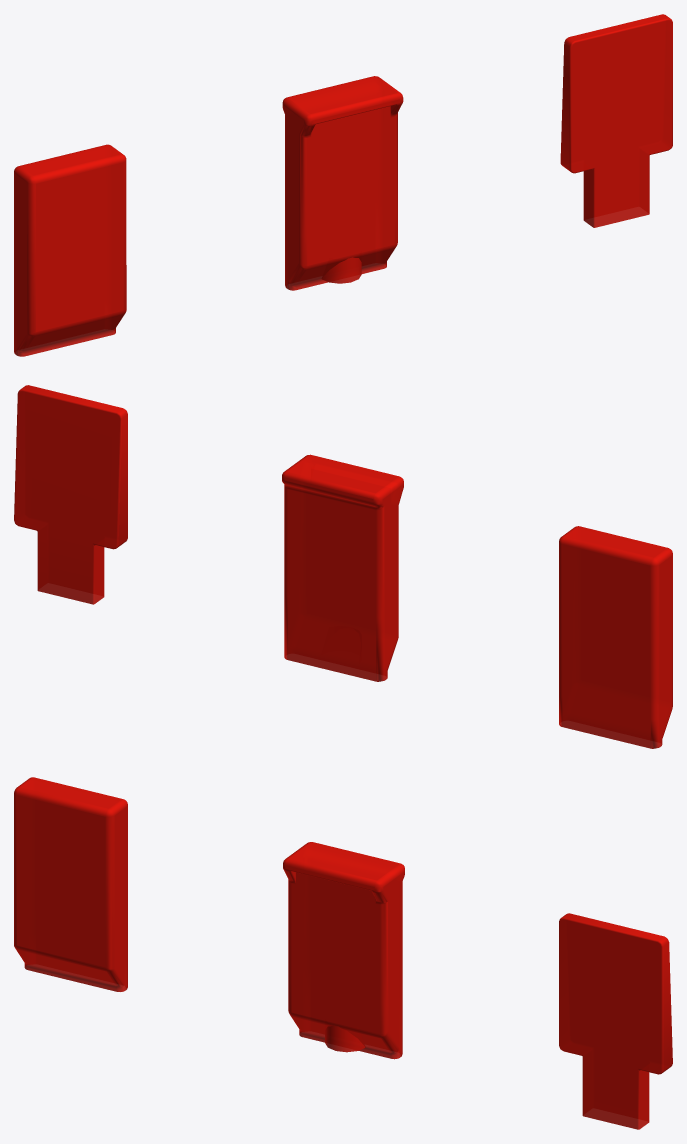
Rendered from Drop Targets - hipoly.fbx.
3 renders of one model, top to bottom at view 1: azimuth 30°, elevation 25°; view 2: azimuth 150°, elevation 25°; view 3: azimuth 330°, elevation 25°, orthographic.
Visible parts, largest first — view 1: DropTarget.Beveled.Hipoly, DropTarget.Simple.Hipoly, DropTarget.Simple.Flat.Hipoly; view 2: DropTarget.Beveled.Hipoly, DropTarget.Simple.Hipoly, DropTarget.Simple.Flat.Hipoly; view 3: DropTarget.Beveled.Hipoly, DropTarget.Simple.Hipoly, DropTarget.Simple.Flat.Hipoly.
Part boxes in pixels (box(x1,y1,x2,y2)): DropTarget.Beveled.Hipoly: box(282, 76, 403, 290); DropTarget.Simple.Hipoly: box(14, 144, 126, 356); DropTarget.Simple.Flat.Hipoly: box(560, 14, 672, 227); DropTarget.Beveled.Hipoly: box(282, 454, 403, 681); DropTarget.Simple.Hipoly: box(559, 526, 672, 748); DropTarget.Simple.Flat.Hipoly: box(14, 385, 127, 604); DropTarget.Beveled.Hipoly: box(283, 842, 404, 1059); DropTarget.Simple.Hipoly: box(14, 777, 127, 991); DropTarget.Simple.Flat.Hipoly: box(559, 913, 672, 1129).
Bounding box in the file's own units: 11.86 × 3.37 × 0.8636.
